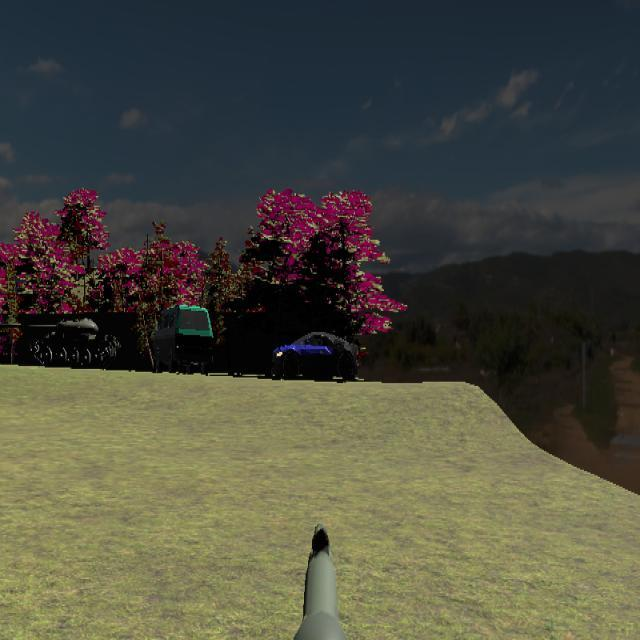Tank: (0, 316, 120, 369)
car: (272, 330, 360, 382), (152, 303, 215, 373)
